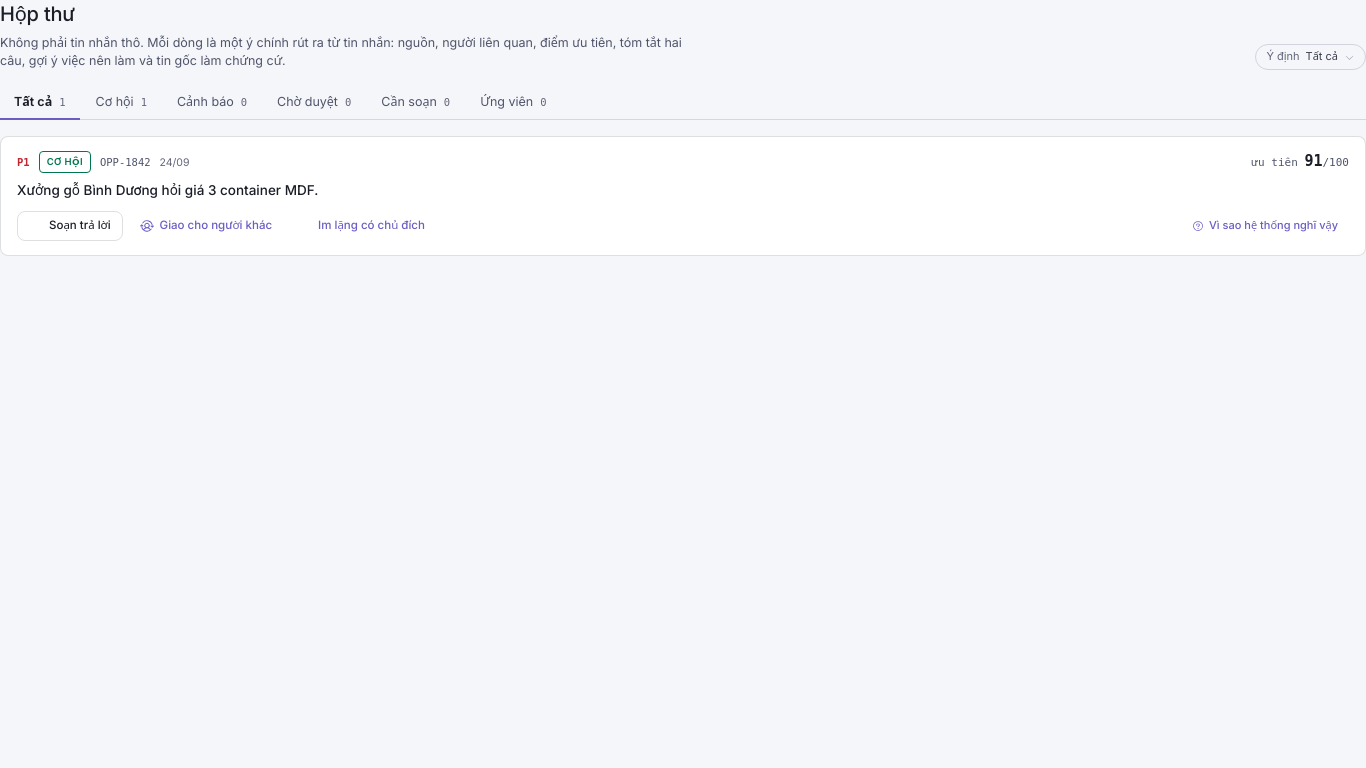
Test case: Hộp thư ý nghĩa › Giao cho người khác › lỗi tải danh sách hiện chuỗi thân thiện (không render object)
Check: the heading "Xưởng gỗ Bình Dương hỏi giá 3 container MDF." is shown, box [17,182,318,198]
Click the button "Giao cho người khác" at [206, 226], box [131,213,281,239]
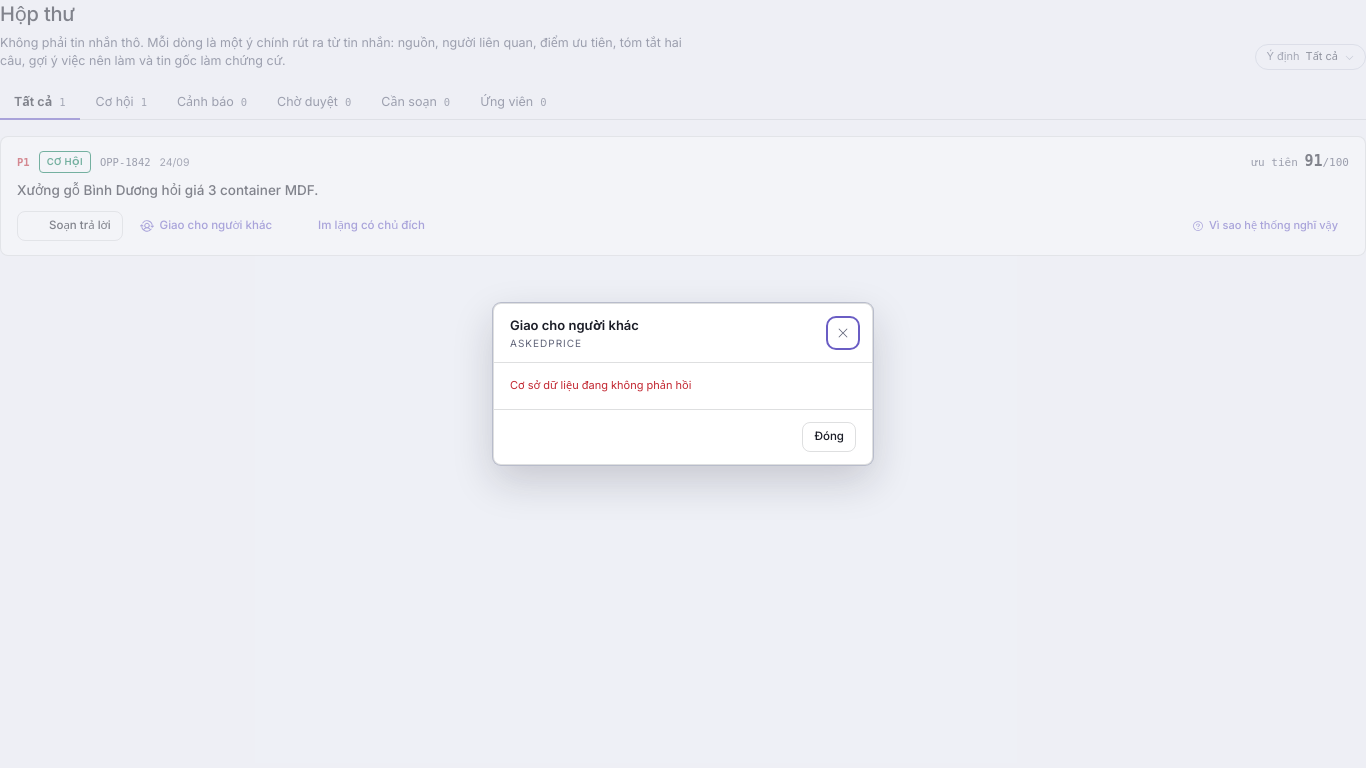
Check: the message shows "Cơ sở dữ liệu", box [510,378,691,392]
